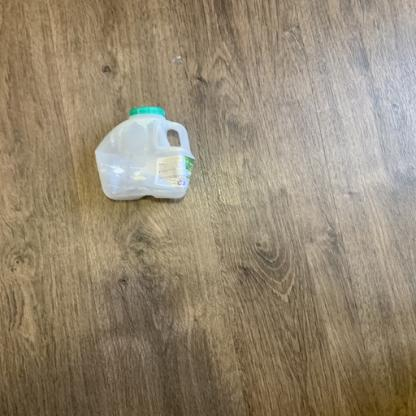trash: (90, 102, 198, 208)
